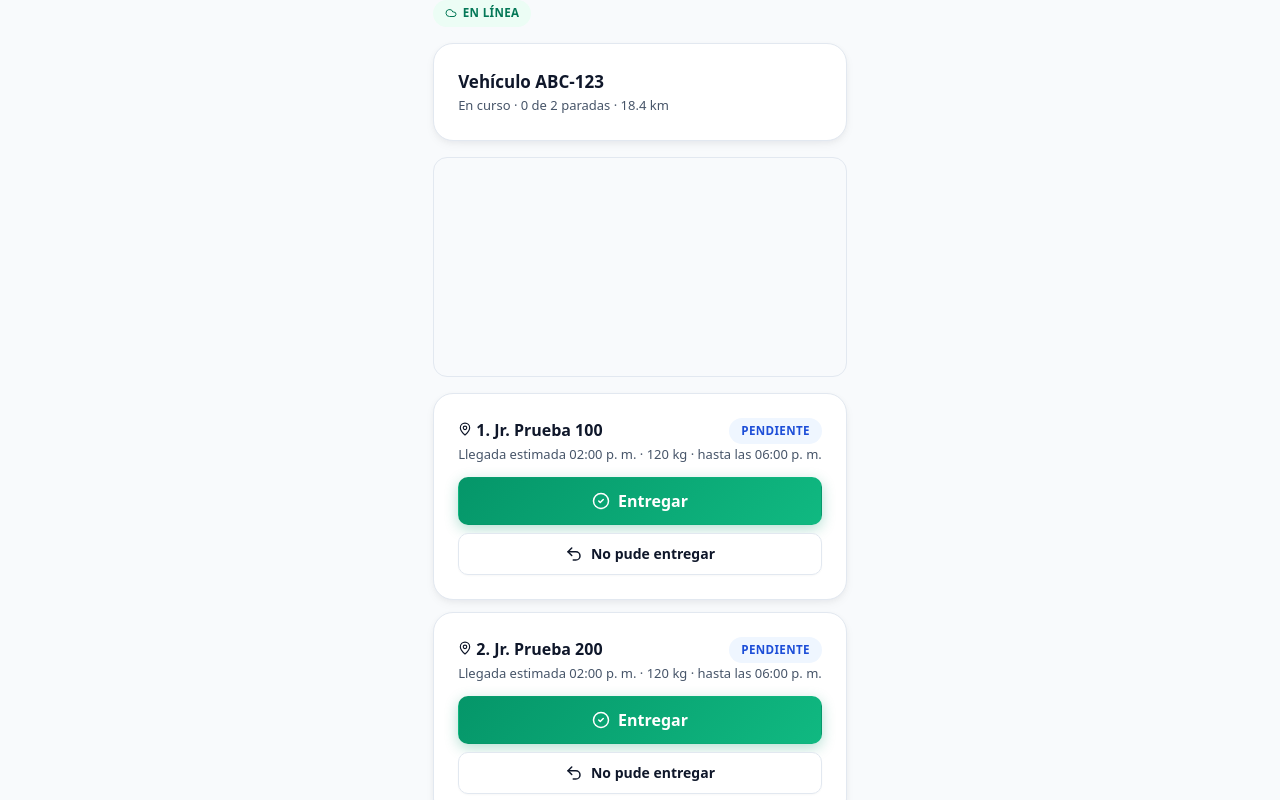
Scenario: ConductorPage (RF-004, RF-008, RNF-004, RNF-010) › Entregar abre la confirmación; sin evidencia (firma o foto) no se puede confirmar (RN-007)
Click the button with aria-label "Entregar parada 1" at [640, 501], box 458,477 -> 822,525
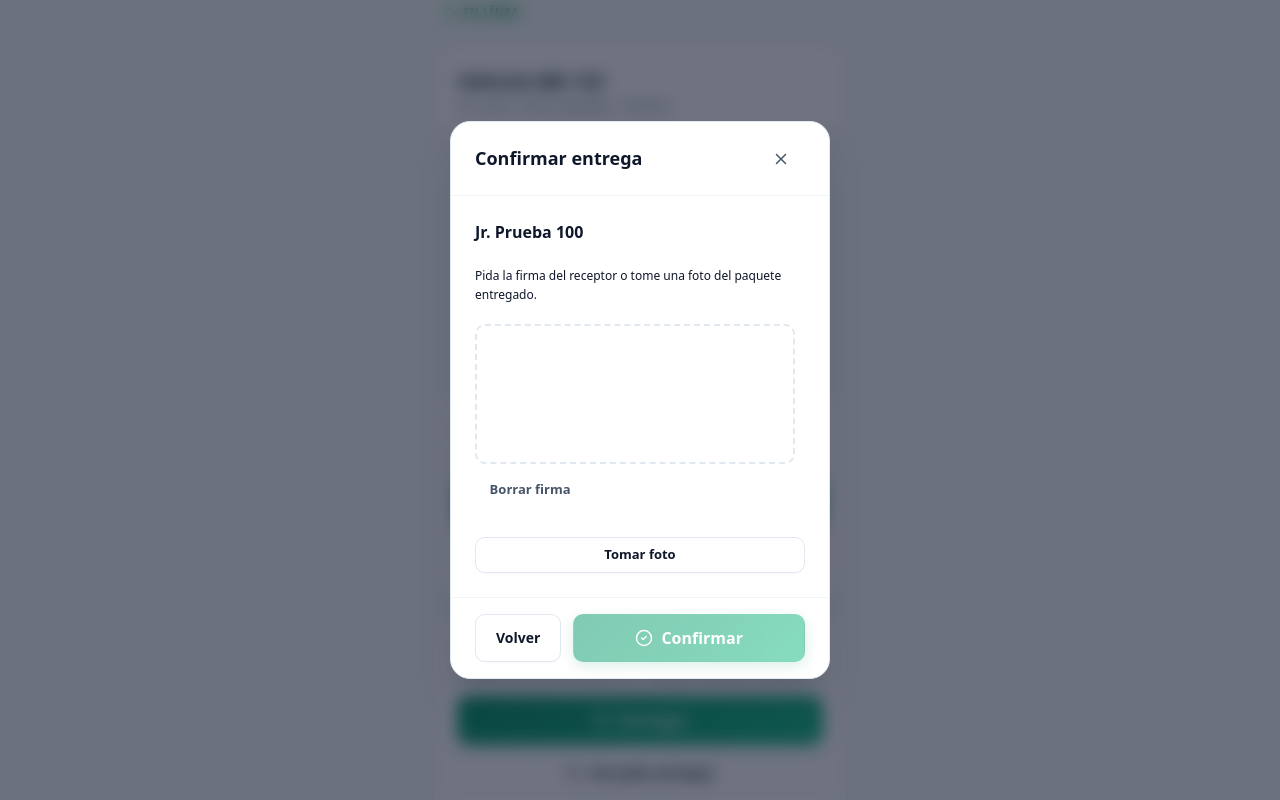
Check: the dialog "Confirmar entrega" is shown, box 450,121 -> 830,678
Check: the button "Confirmar" is disabled, box 573,614 -> 805,662
Check: the drawing named "Espacio para la firma del receptor" is shown, box 475,324 -> 795,464
Click the button "Volver" at [518, 638], box 475,614 -> 561,662
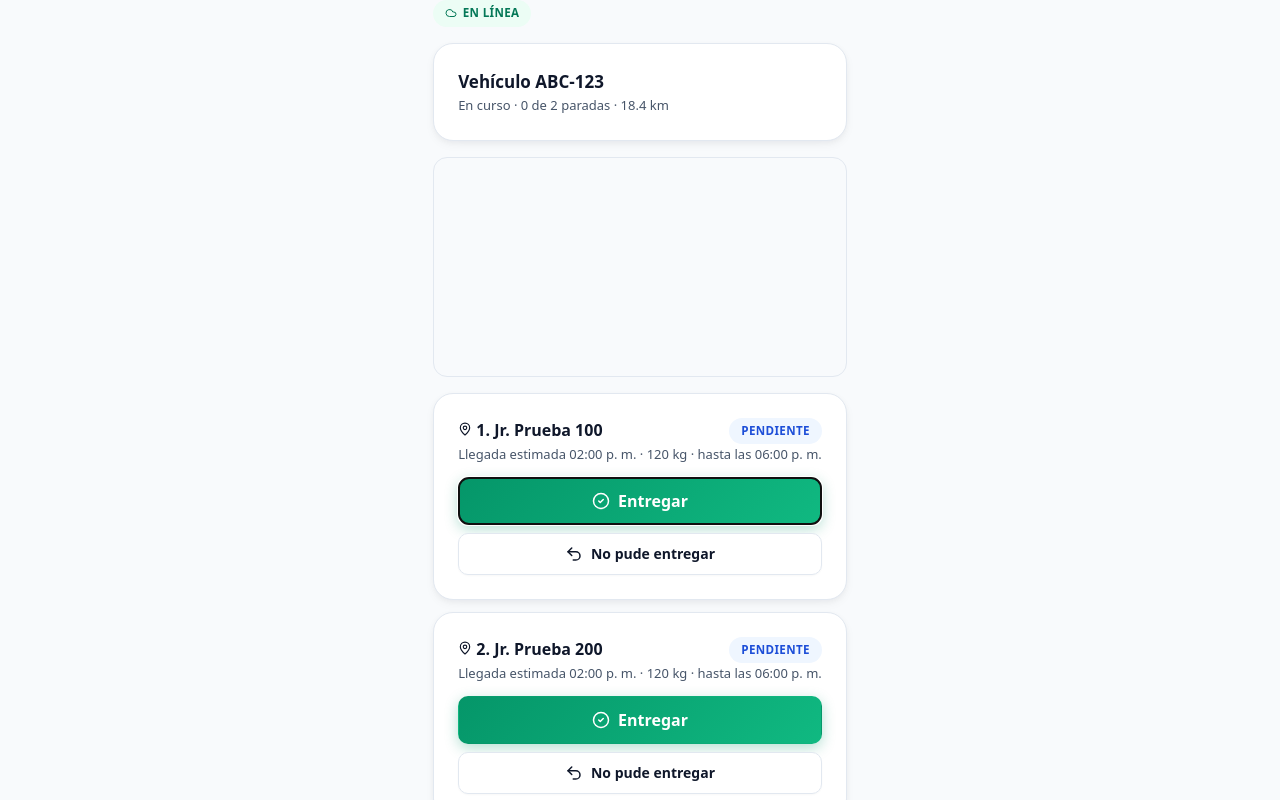
Check: the dialog is gone
